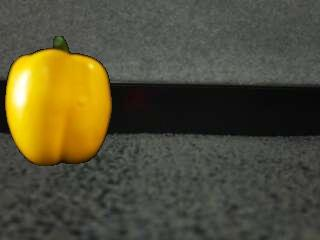Capsicum: (4, 36, 112, 166)
